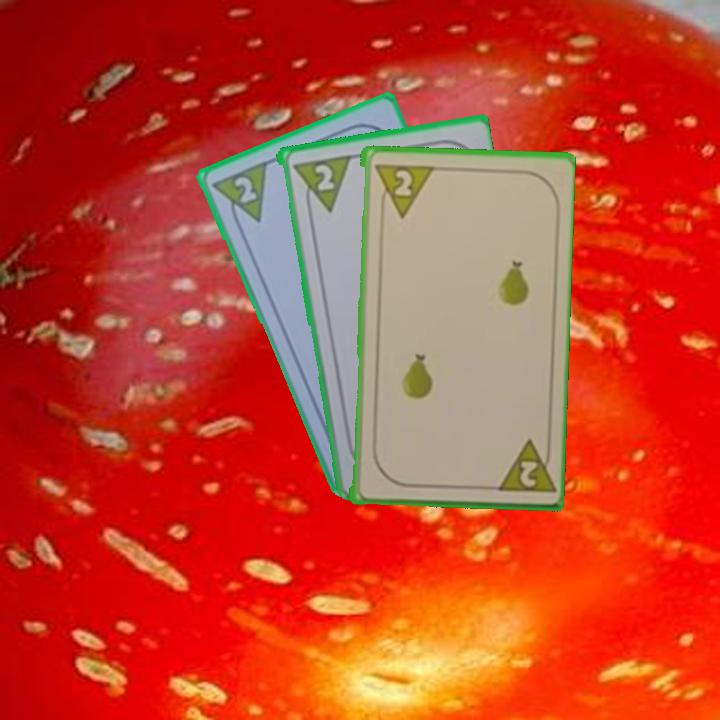2p: (207, 157, 270, 232), (370, 159, 433, 220), (310, 160, 337, 193), (516, 457, 539, 490)
